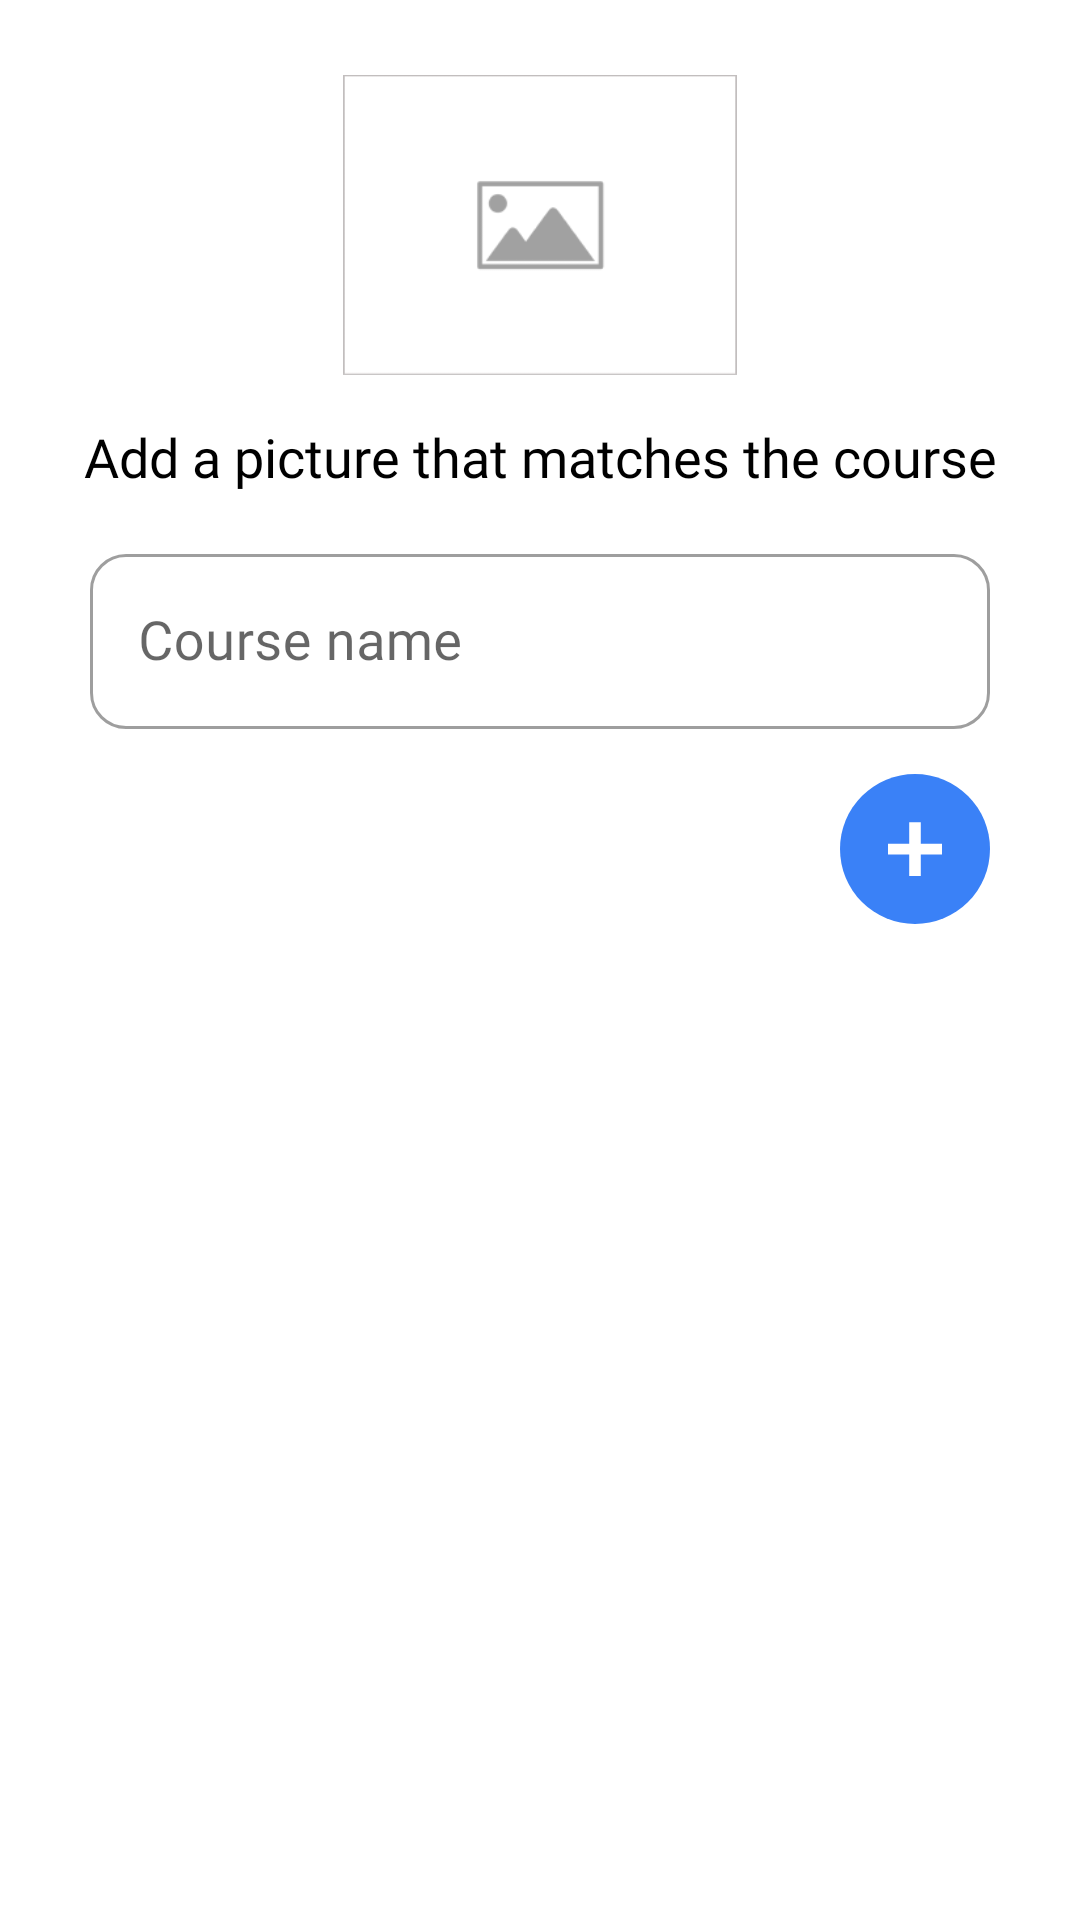

Screen size 1080x1920. Icon name, then its center in pixels as (x,y):
add: (915,849)
